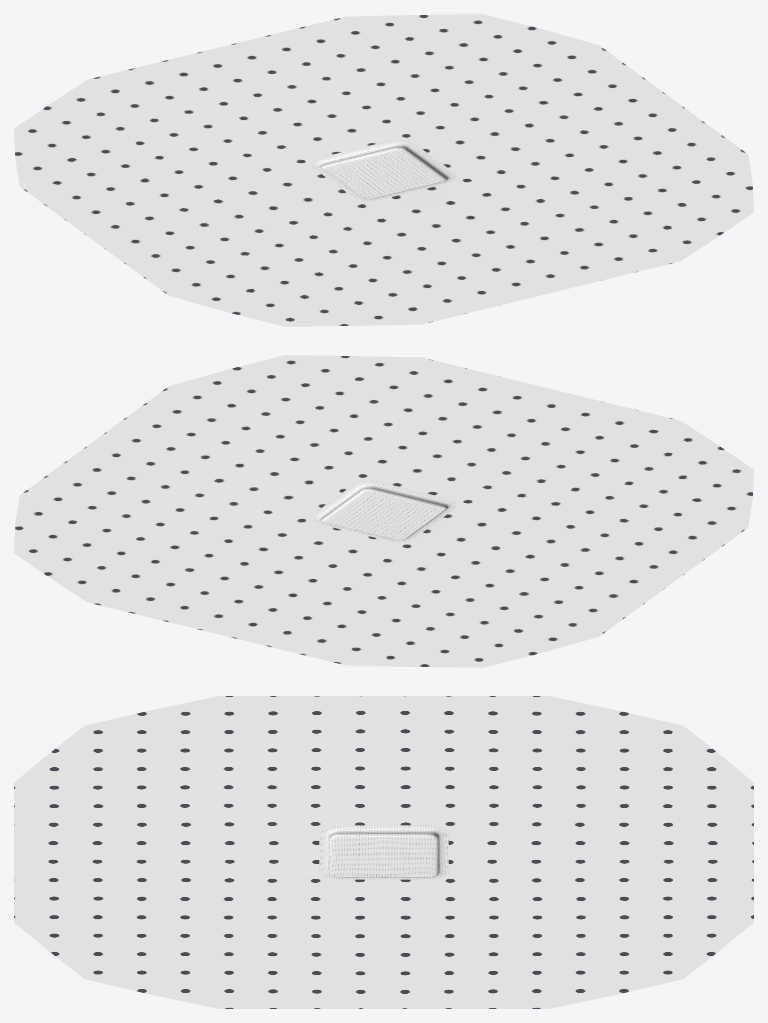
Rendered from intentoTerain 1.fbx.
The picture shows the model from 3 angles, top to bottom: view 1: azimuth 30°, elevation 25°; view 2: azimuth 150°, elevation 25°; view 3: azimuth 270°, elevation 25°; orthographic projection. The views are drawn at different scales.
Parts seen in each view (by area): view 1: TerrenoDefinitivo; view 2: TerrenoDefinitivo; view 3: TerrenoDefinitivo.
Part boxes in pixels (x1,y1,x2,y2): TerrenoDefinitivo: (14,14,753,326); TerrenoDefinitivo: (14,355,753,667); TerrenoDefinitivo: (14,696,753,1008).
Bounding box in the file's own units: 6101 × 59.99 × 6101.
1 material, 1 textured.
